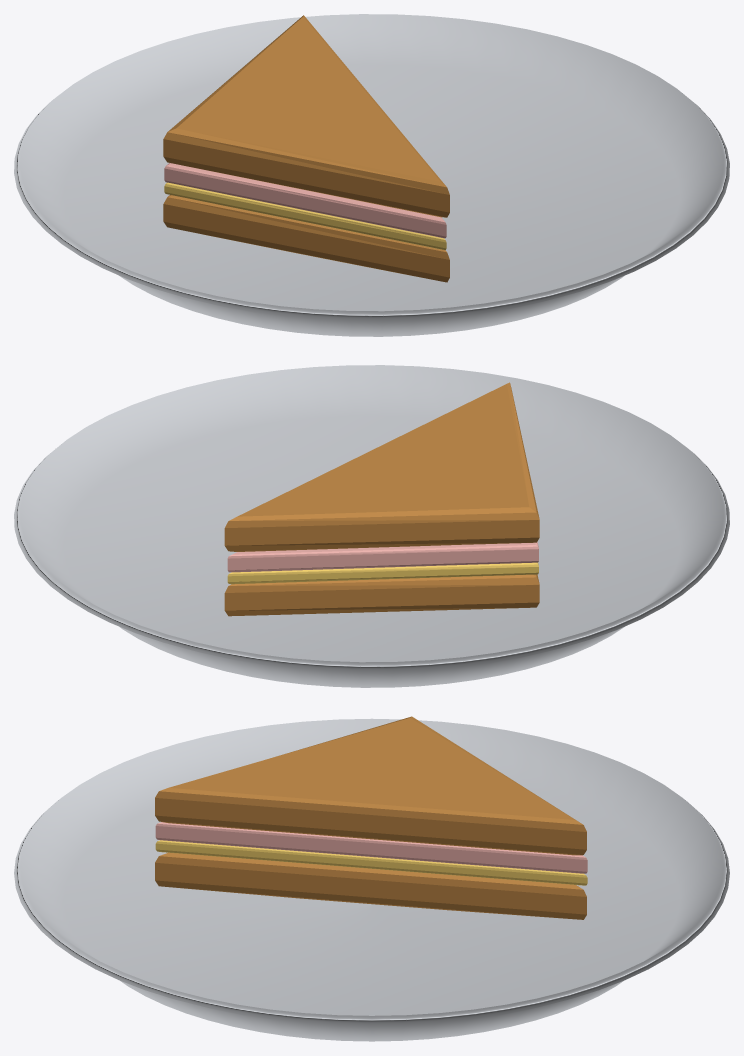
Rendered from alba-toast-prosciutto-cotto-e-formaggio.glb.
The picture shows the model from 3 angles, top to bottom: view 1: azimuth 30°, elevation 25°; view 2: azimuth 150°, elevation 25°; view 3: azimuth 270°, elevation 25°; orthographic projection.
Bounding box in the file's own units: 0.22 × 0.0385 × 0.22.
